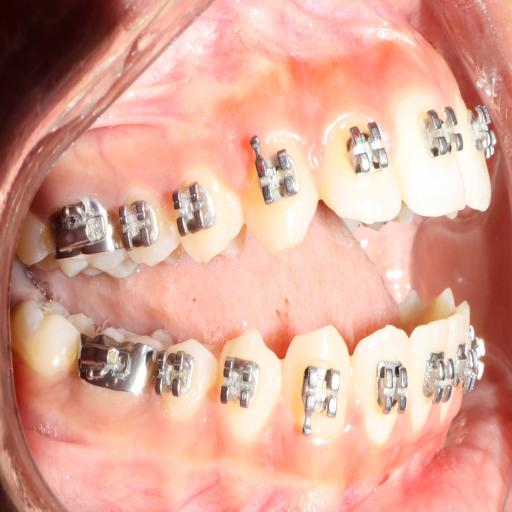correct_brace: (172, 162, 242, 280), (214, 325, 282, 438), (249, 150, 307, 209), (420, 98, 467, 167), (342, 117, 391, 180), (300, 358, 344, 424), (217, 349, 262, 412), (372, 354, 410, 419)
incorrect_brace: (319, 103, 397, 232), (355, 320, 410, 442), (170, 184, 214, 236)
